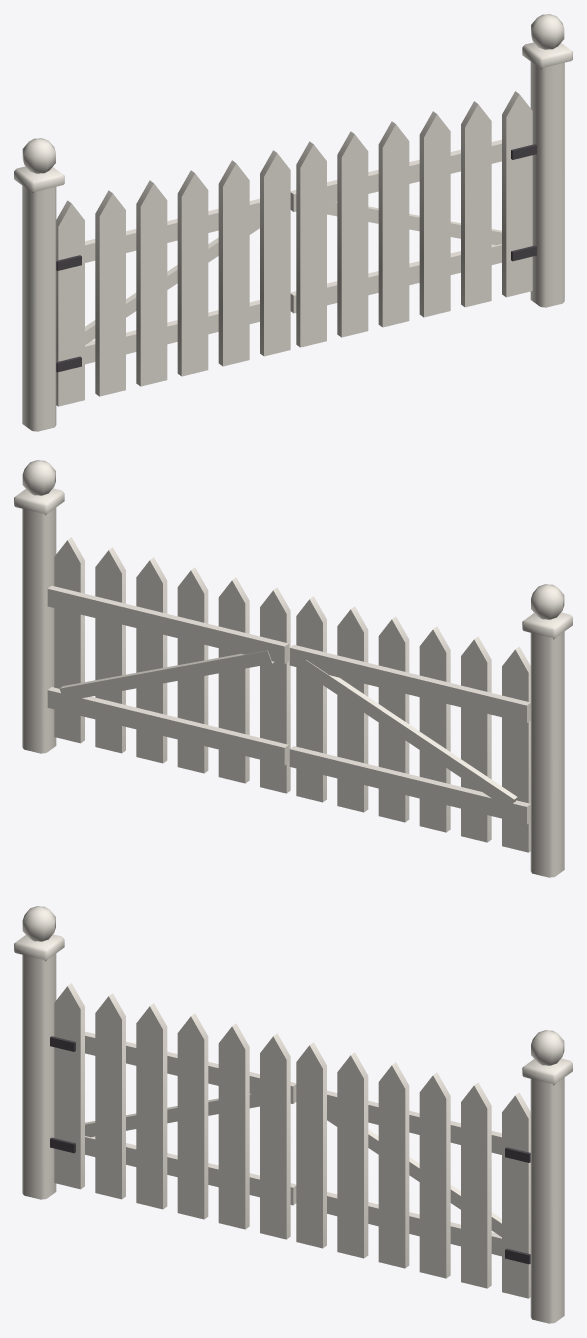
Rendered from garden_gate.glb.
The picture shows the model from 3 angles, top to bottom: view 1: azimuth 30°, elevation 25°; view 2: azimuth 150°, elevation 25°; view 3: azimuth 330°, elevation 25°; orthographic projection.
Visible parts, largest first — view 1: leaf_r, leaf_l, garden_gate; view 2: leaf_r, leaf_l, garden_gate; view 3: leaf_l, leaf_r, garden_gate.
Part boxes in pixels (bbox=[...]): leaf_r: bbox=[290, 91, 536, 347]; leaf_l: bbox=[56, 150, 290, 406]; garden_gate: bbox=[14, 14, 572, 431]; leaf_r: bbox=[47, 537, 290, 793]; leaf_l: bbox=[289, 596, 530, 852]; garden_gate: bbox=[14, 460, 572, 877]; leaf_l: bbox=[50, 983, 296, 1239]; leaf_r: bbox=[296, 1042, 530, 1298]; garden_gate: bbox=[14, 906, 572, 1323].
Bounding box in the file's own units: 2.24 × 1.12 × 0.14.
Materials: 1 (1 with a texture image).
